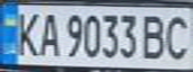0: (81, 10, 103, 60)
3: (118, 10, 142, 60), (100, 11, 121, 60)
9: (60, 10, 84, 58)
A: (33, 9, 60, 57)
B: (139, 11, 172, 61)
C: (160, 11, 193, 61)
K: (9, 8, 42, 57)
